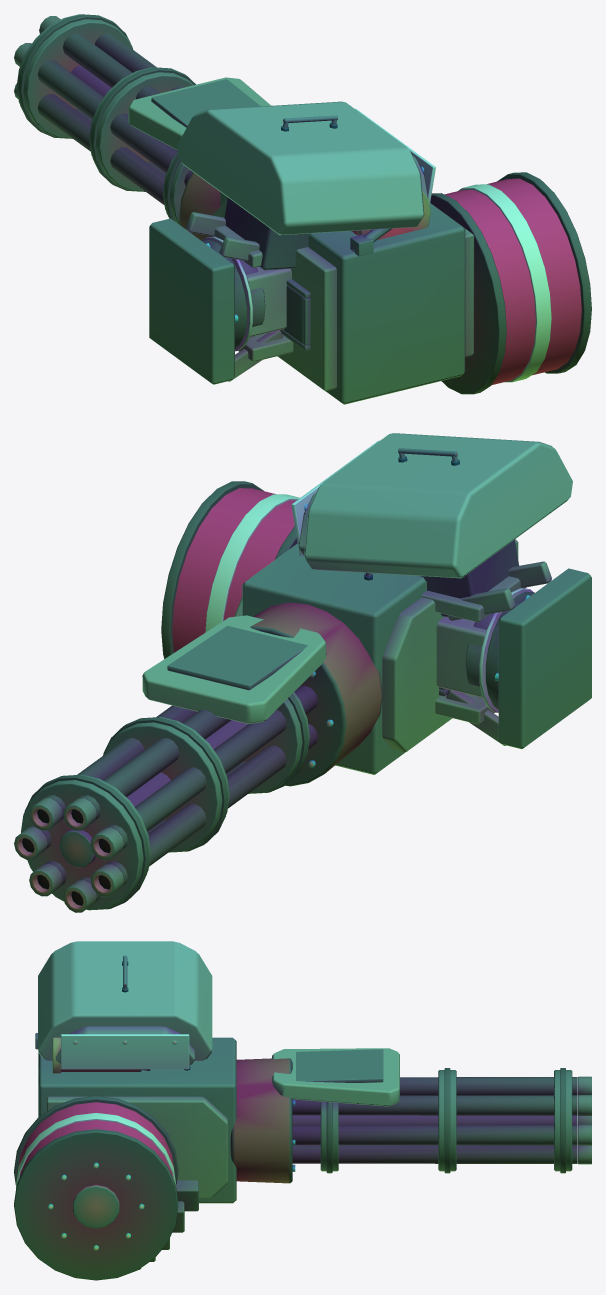
The model's file is arm_gatling.glb.
3 renders of one model, top to bottom at view 1: azimuth 30°, elevation 25°; view 2: azimuth 150°, elevation 25°; view 3: azimuth 270°, elevation 25°, orthographic. The views are drawn at different scales.
Visible parts, largest first — view 1: Body__gunmetal, Body__armor, Body__dark, Body__armor_sub, Body__hazard, Body__chrome, Body__brass; view 2: Body__gunmetal, Body__armor, Body__dark, Body__armor_sub, Body__hazard, Body__chrome, Body__bore; view 3: Body__dark, Body__gunmetal, Body__armor, Body__armor_sub, Body__hazard.
Part boxes in pixels (x1,y1,x2,y2): Body__gunmetal: (14,14,465,404); Body__armor: (128,77,424,337); Body__dark: (18,14,591,394); Body__armor_sub: (186,156,581,391); Body__hazard: (355,108,551,382); Body__chrome: (202,166,424,351); Body__brass: (356,190,430,239); Body__gunmetal: (14,448,591,912); Body__armor: (142,433,572,723); Body__dark: (24,456,534,909); Body__armor_sub: (172,488,551,752); Body__hazard: (205,440,379,632); Body__chrome: (304,504,533,767); Body__bore: (22,809,110,905); Body__dark: (14,961,577,1280); Body__gunmetal: (35,955,591,1269); Body__armor: (38,941,399,1106); Body__armor_sub: (18,1026,228,1197); Body__hazard: (16,1034,189,1188).
Size of the model in its own units: 1.52 by 1.29 by 2.8.
